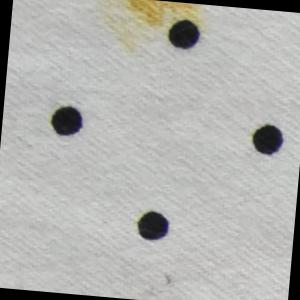Oil Stain: (118, 1, 201, 36)
